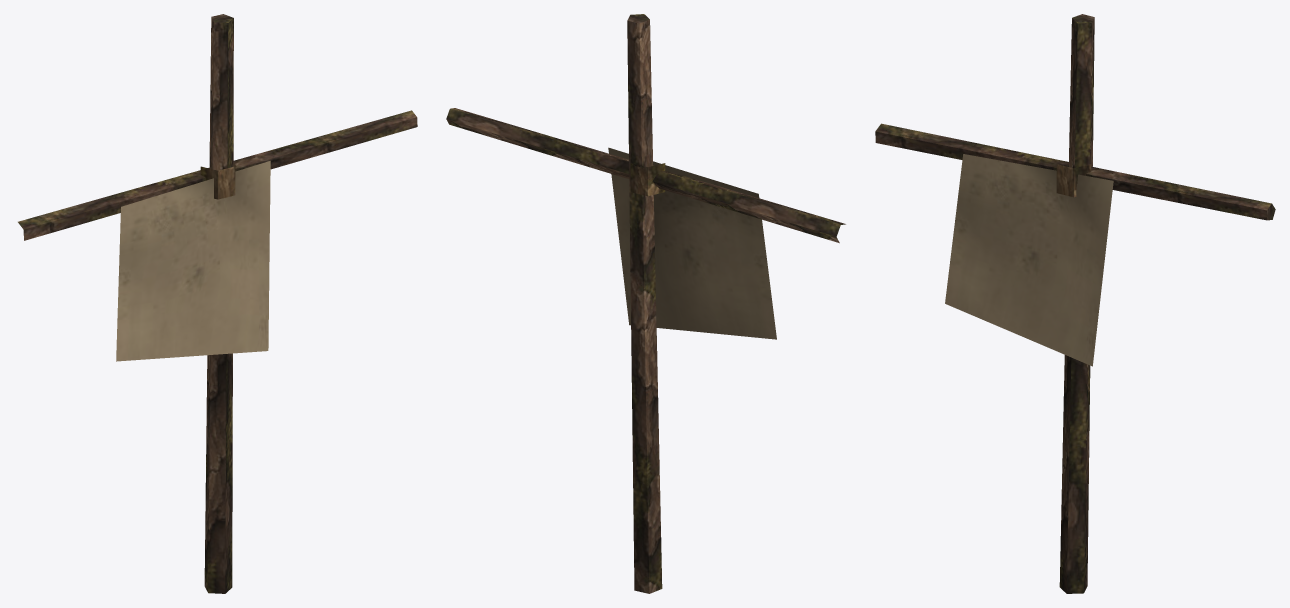
The model's file is camp_scarecrow_pole.glb.
3 renders of one model, left to right at view 1: azimuth 30°, elevation 25°; view 2: azimuth 150°, elevation 25°; view 3: azimuth 330°, elevation 25°, orthographic.
Visible parts, largest first — view 1: camp_scarecrow_pole; view 2: camp_scarecrow_pole; view 3: camp_scarecrow_pole.
Boxes of the visible parts, x1=… form: camp_scarecrow_pole: x1=18, y1=14, x2=417, y2=593; camp_scarecrow_pole: x1=446, y1=14, x2=845, y2=593; camp_scarecrow_pole: x1=875, y1=14, x2=1275, y2=593.
Size of the model in its own units: 1.7 by 2.35 by 0.185.
Materials: 2 (2 with a texture image).
